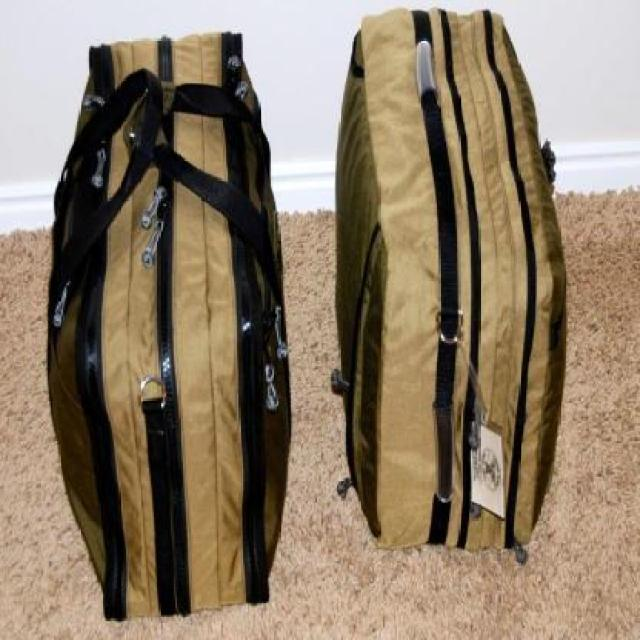backpack: (44, 25, 296, 624), (328, 5, 570, 568)
